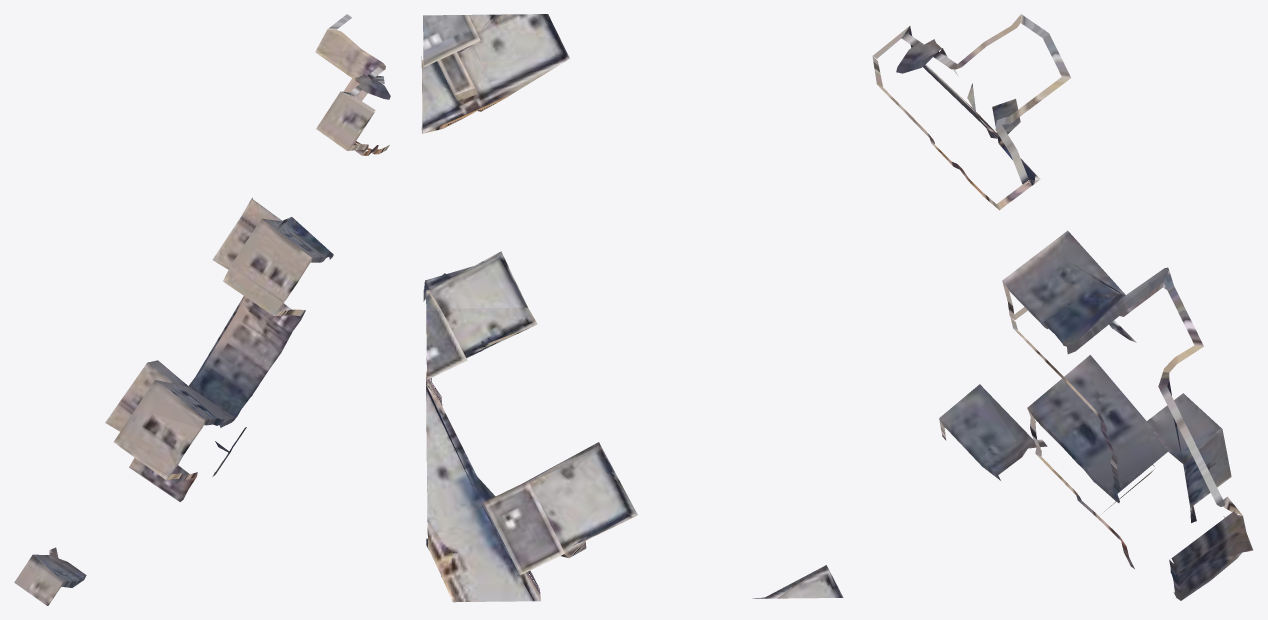
The picture shows the model from 3 angles, left to right: view 1: azimuth 30°, elevation 25°; view 2: azimuth 150°, elevation 25°; view 3: azimuth 270°, elevation 25°; orthographic projection. The views are drawn at different scales.
Bounding box in the file's own units: 62.58 × 75.82 × 41.85.
Materials: 1 (1 with a texture image).
